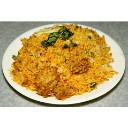briyani: (19, 31, 111, 92)
